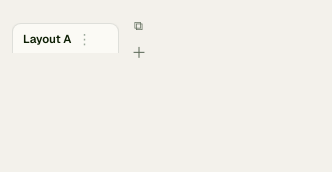
Test: layout variant tabs › creates and activates a blank layout directly from the plus button
Click the button named "New layout".
click(138, 51)  # box top-left (126, 38), bottom-right (152, 64)
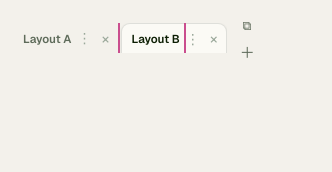
Expected: the tab "Layout B" is shown, top-left (122, 24), bottom-right (182, 53)
